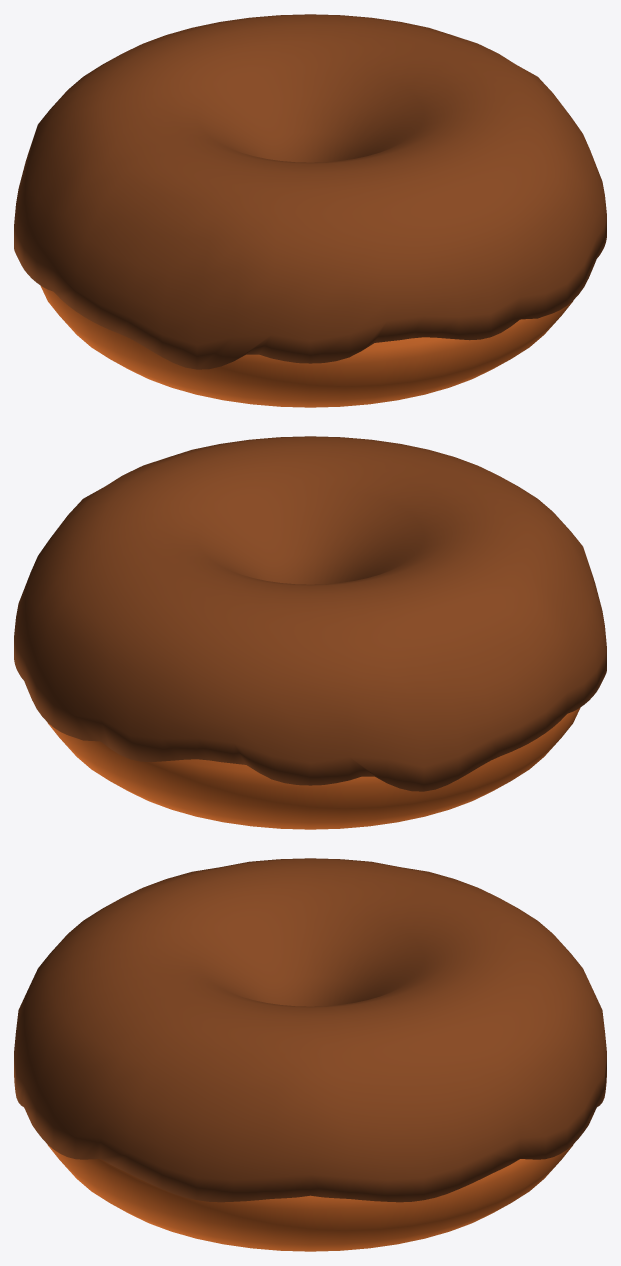
File: chocolate_frosted.fbx
3 renders of one model, top to bottom at view 1: azimuth 30°, elevation 25°; view 2: azimuth 150°, elevation 25°; view 3: azimuth 270°, elevation 25°, orthographic.
Parts seen in each view (by area): view 1: chocolate frosted.002; view 2: chocolate frosted.002; view 3: chocolate frosted.002.
Part boxes in pixels (box(x1,y1,x2,y2)): chocolate frosted.002: box(14, 14, 606, 407); chocolate frosted.002: box(14, 436, 606, 829); chocolate frosted.002: box(14, 858, 606, 1251).
Bounding box in the file's own units: 260 × 109 × 260.
